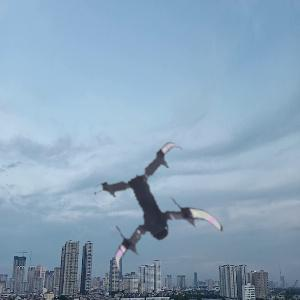drone: (92, 154, 221, 283)
